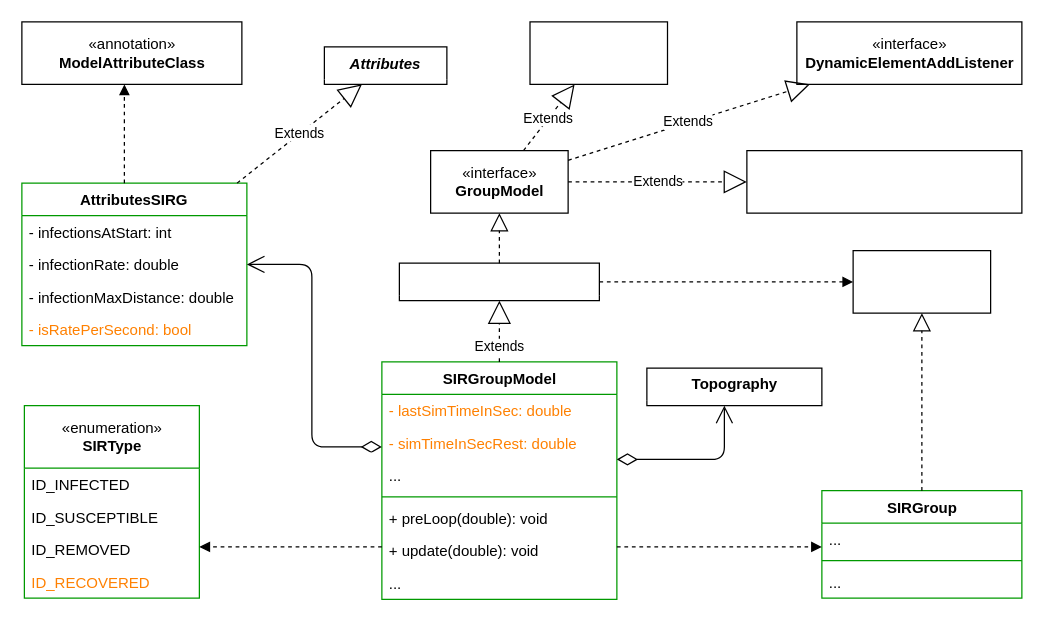
Image size: 1044x625. Some labels were removed from this diagram. The centre of each missing label's shape, as x and y in pixels:
"AbstractGroupModel" goes at (x=498, y=281).
"«interface» DynamicElementRemoveListener" goes at (x=884, y=181).
"«interface» Group" goes at (x=921, y=281).
"«interface» Model" goes at (x=598, y=52).
